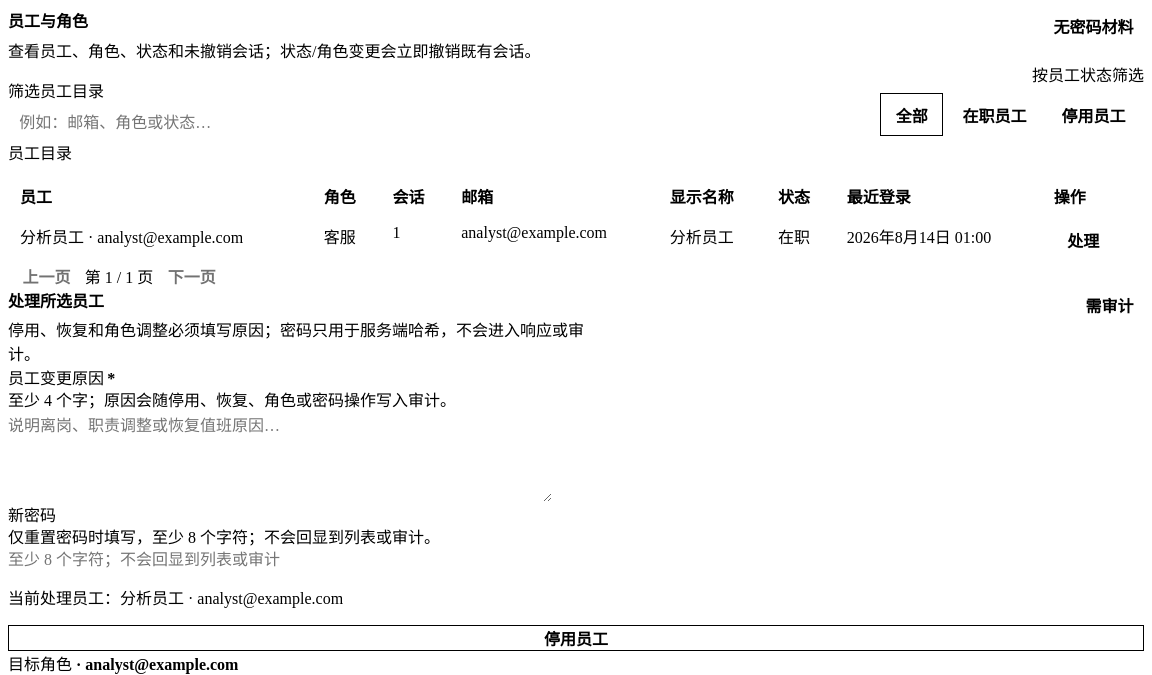
Test case: AdminStaffSurface › shows staff facts and submits audited status and role changes
Expected: the text "analyst@example.com" is shown, left=449, top=216, right=658, bottom=264
Expected: the text "在职" is shown, left=766, top=216, right=835, bottom=264
Type "调整员工权限和排班" into the text box labelled "员工变更原因" at (280, 458), box left=8, top=414, right=552, bottom=502
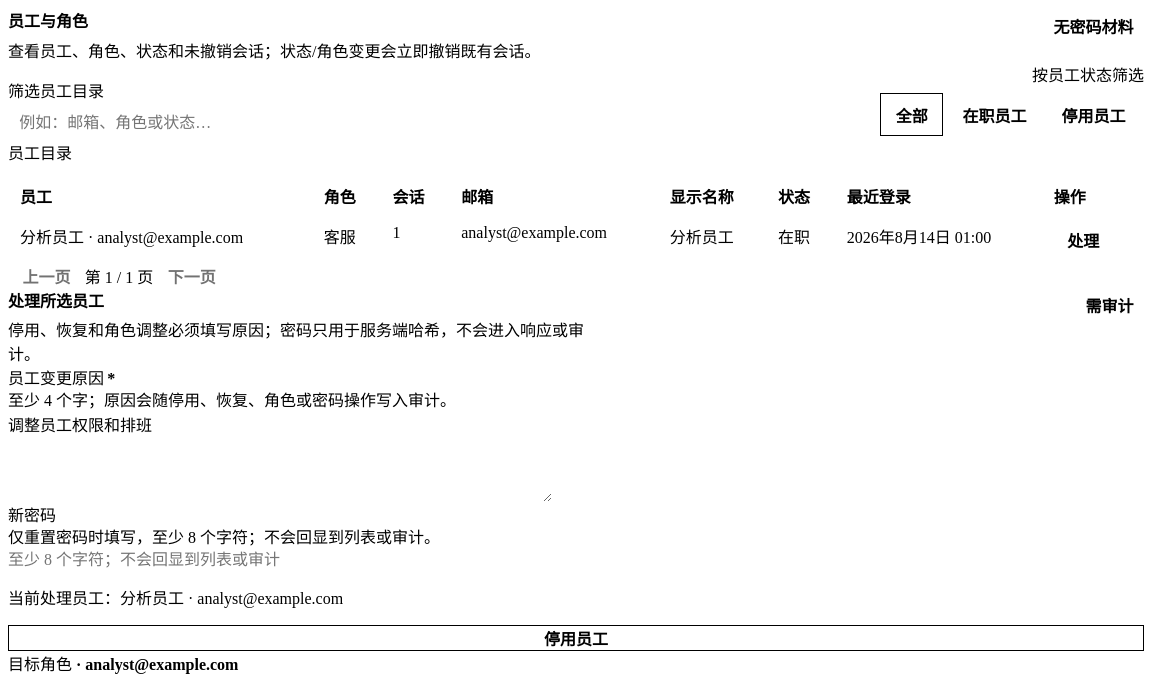
Click the button with aria-label "停用 analyst@example.com" at (576, 638), box left=8, top=625, right=1144, bottom=651
(page scrolled)
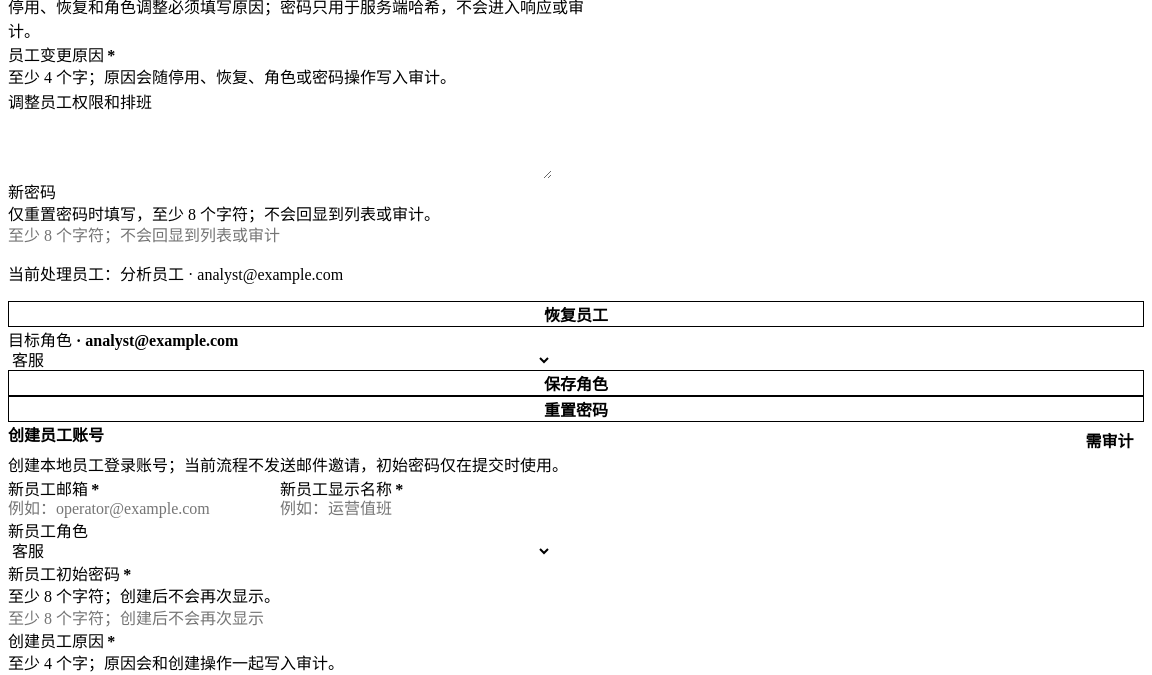
Select "财务" in the dropdown named "角色 analyst@example.com" at (280, 361), box left=8, top=351, right=552, bottom=370
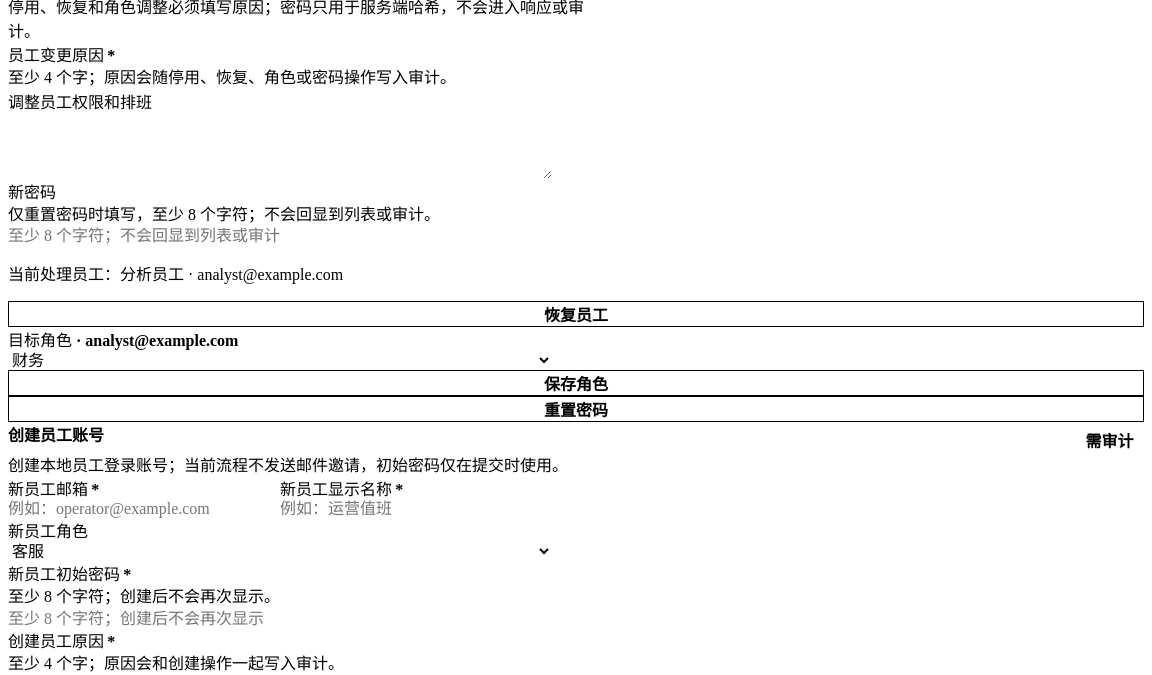
Click the button with aria-label "保存角色 analyst@example.com" at (576, 383), box left=8, top=370, right=1144, bottom=396
(page scrolled)
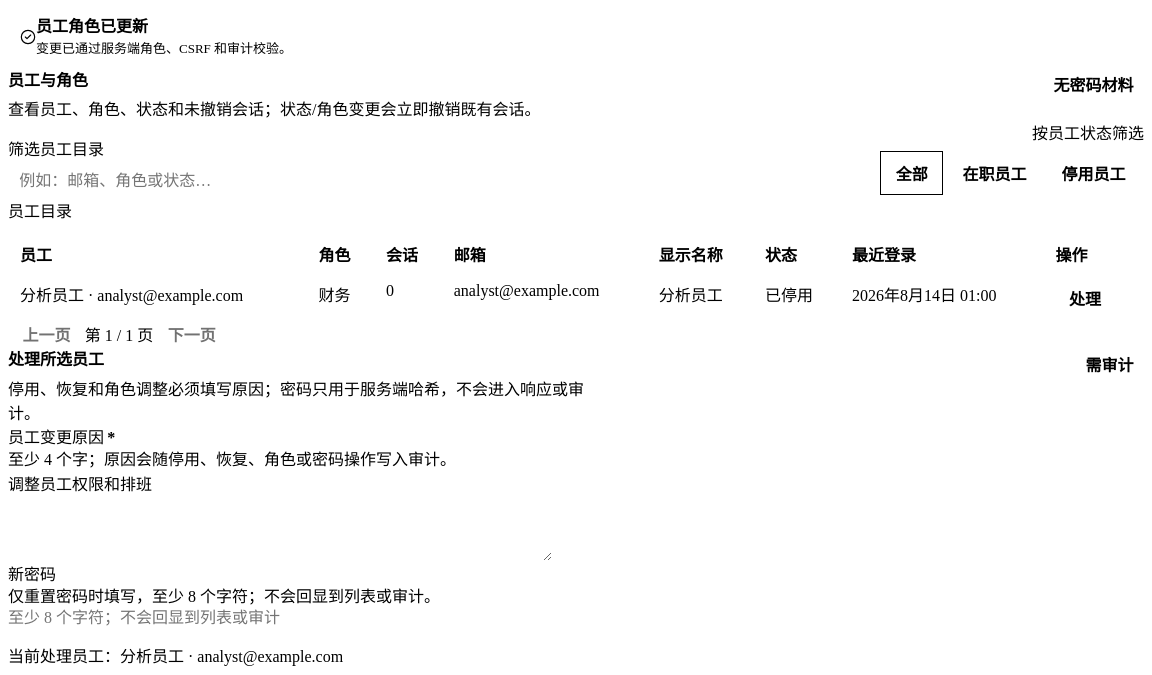
Expected: the heading "员工角色已更新" is shown, left=36, top=18, right=148, bottom=35
